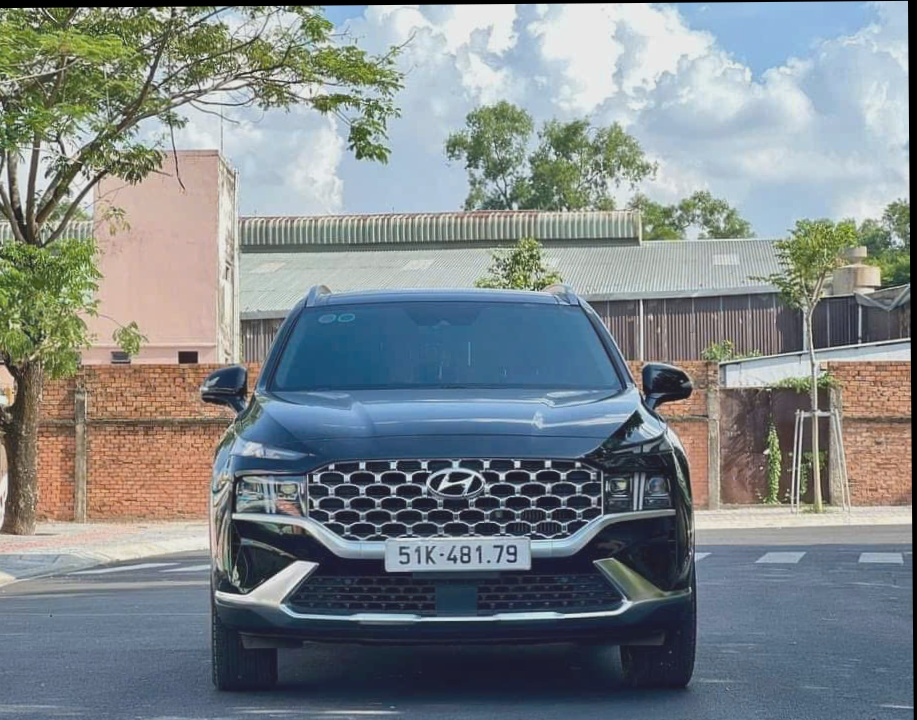Bien-so: (397, 510, 556, 549)
